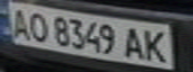3: (66, 16, 84, 51)
4: (81, 19, 103, 53)
8: (48, 14, 72, 47)
9: (96, 21, 121, 56)
A: (3, 5, 33, 39), (121, 25, 148, 61)
K: (139, 26, 172, 64)
O: (24, 10, 51, 43)
